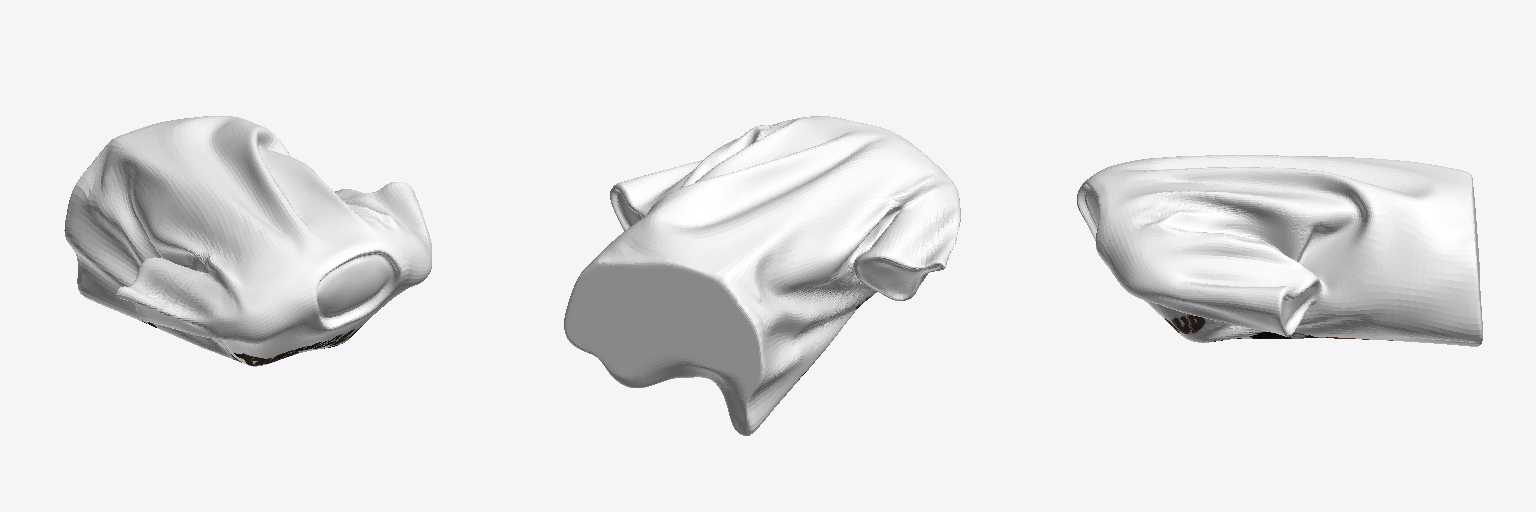
The picture shows the model from 3 angles: view 1: azimuth 30°, elevation 25°; view 2: azimuth 150°, elevation 25°; view 3: azimuth 270°, elevation 25°; orthographic projection.
Parts seen in each view (by area): view 1: Object.1; view 2: Object.1; view 3: Object.1.
Boxes of the visible parts, box(x1,y1,x2,y2) form: Object.1: box(64, 116, 431, 366); Object.1: box(564, 116, 960, 435); Object.1: box(1077, 155, 1482, 346).
Bounding box in the file's own units: 15.63 × 8.78 × 17.38.
Materials: 1 (1 with a texture image).